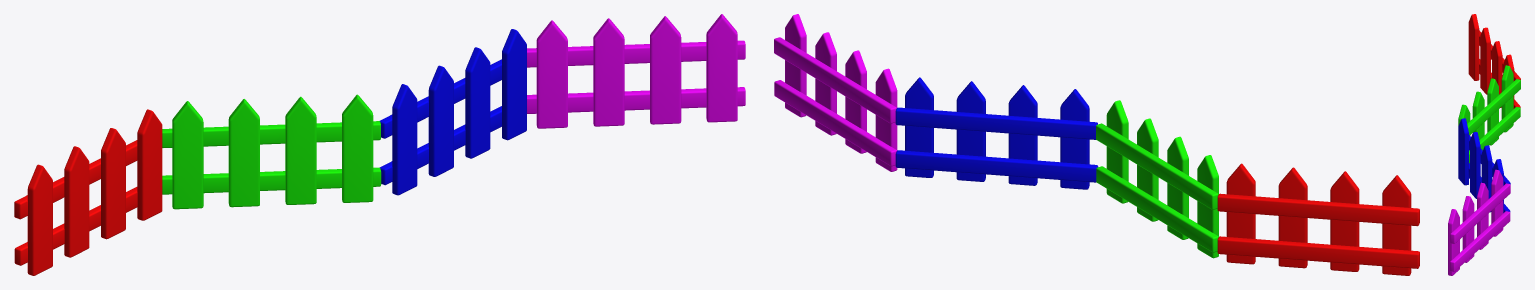
The model's file is fence.FBX.
The picture shows the model from 3 angles, left to right: view 1: azimuth 30°, elevation 25°; view 2: azimuth 150°, elevation 25°; view 3: azimuth 270°, elevation 25°; orthographic projection. The views are drawn at different scales.
Visible parts, largest first — view 1: ChamferBox008, ChamferBox004, ChamferBox007, ChamferBox003; view 2: ChamferBox007, ChamferBox003, ChamferBox004, ChamferBox008; view 3: ChamferBox004, ChamferBox008, ChamferBox007, ChamferBox003.
Part boxes in pixels (box(x1,y1,x2,y2)): ChamferBox008: box(162, 94, 381, 209); ChamferBox004: box(527, 14, 745, 128); ChamferBox007: box(14, 109, 162, 275); ChamferBox003: box(379, 29, 526, 195); ChamferBox007: box(1217, 163, 1419, 275); ChamferBox003: box(895, 77, 1098, 189); ChamferBox004: box(774, 14, 897, 171); ChamferBox008: box(1096, 100, 1218, 258); ChamferBox004: box(1448, 169, 1510, 275); ChamferBox008: box(1458, 65, 1520, 163); ChamferBox007: box(1468, 14, 1520, 108); ChamferBox003: box(1458, 118, 1510, 212).
Bounding box in the file's own units: 172 × 24.34 × 25.33.
